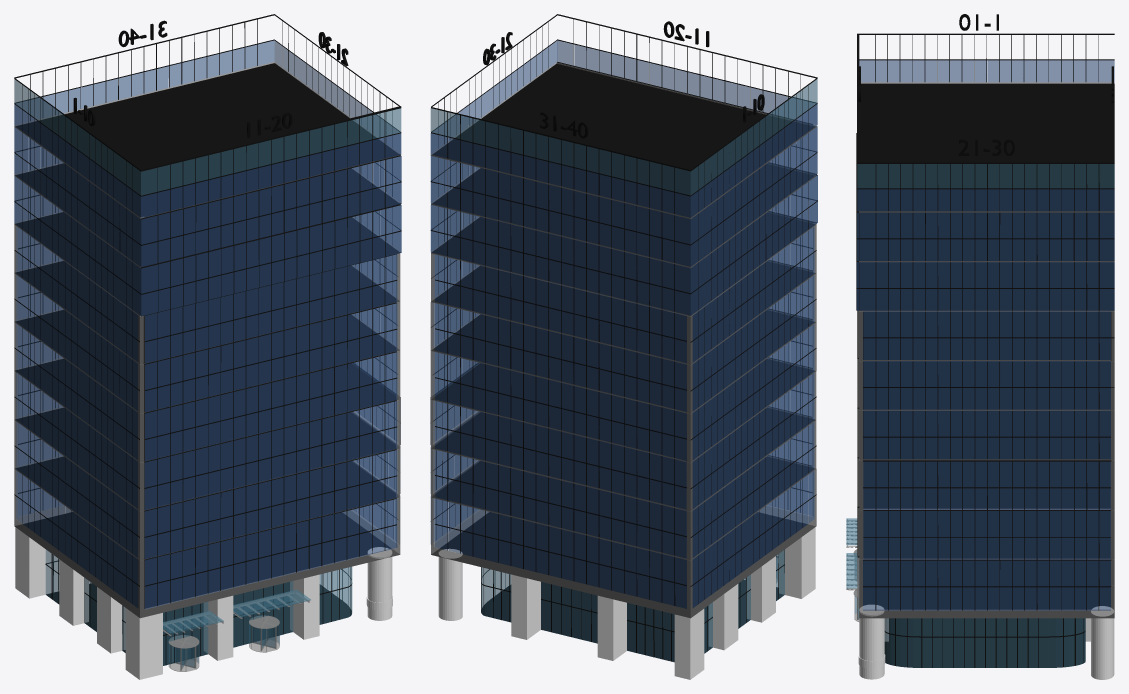
The model's file is Dashwood.glb.
3 views of the same model, side by side, from view 1: azimuth 30°, elevation 25°; view 2: azimuth 150°, elevation 25°; view 3: azimuth 270°, elevation 25° (orthographic).
Parts seen in each view (by area): view 1: Cube.002, Drop20, Drop11, Drop16, Drop12, Drop15, Drop19, Drop13, Drop17, Drop14, Drop18, Plane (+28 smaller); view 2: Cube.002, Drop31, Drop40, Drop32, Drop38, Drop36, Drop33, Drop35, Drop37, Drop39, Drop34, Plane (+25 smaller); view 3: Cube.002, Drop21, Drop30, Drop29, Drop28, Drop24, Drop22, Drop27, Drop23, Drop26, Drop25, Plane (+13 smaller).
Part boxes in pixels (<box>): Cube.002: <box>14,14,401,618</box>; Drop20: <box>372,108,401,553</box>; Drop11: <box>141,165,170,609</box>; Drop16: <box>271,134,296,578</box>; Drop12: <box>170,158,195,602</box>; Drop15: <box>246,140,271,584</box>; Drop19: <box>347,115,372,559</box>; Drop13: <box>195,152,220,596</box>; Drop17: <box>296,128,321,571</box>; Drop14: <box>221,146,245,590</box>; Drop18: <box>322,121,347,565</box>; Plane: <box>45,549,352,665</box>; Cube.002: <box>430,14,817,618</box>; Drop31: <box>430,108,459,553</box>; Drop40: <box>662,165,690,608</box>; Drop32: <box>460,115,485,559</box>; Drop38: <box>612,152,636,596</box>; Drop36: <box>561,140,585,583</box>; Drop33: <box>486,121,510,565</box>; Drop35: <box>536,134,560,577</box>; Drop37: <box>587,146,611,590</box>; Drop39: <box>637,159,661,602</box>; Drop34: <box>511,128,535,571</box>; Plane: <box>481,549,784,662</box>; Cube.002: <box>856,33,1114,618</box>; Drop21: <box>859,164,887,610</box>; Drop30: <box>1087,164,1114,610</box>; Drop29: <box>1062,164,1086,610</box>; Drop28: <box>1037,164,1061,610</box>; Drop24: <box>938,164,962,610</box>; Drop22: <box>888,164,912,610</box>; Drop27: <box>1012,164,1036,610</box>; Drop23: <box>913,164,937,610</box>; Drop26: <box>987,164,1011,610</box>; Drop25: <box>963,164,986,610</box>; Plane: <box>884,618,1085,667</box>.
Size of the model in its own units: 24.54 by 47.47 by 21.38.
Materials: 33 (2 with a texture image).
